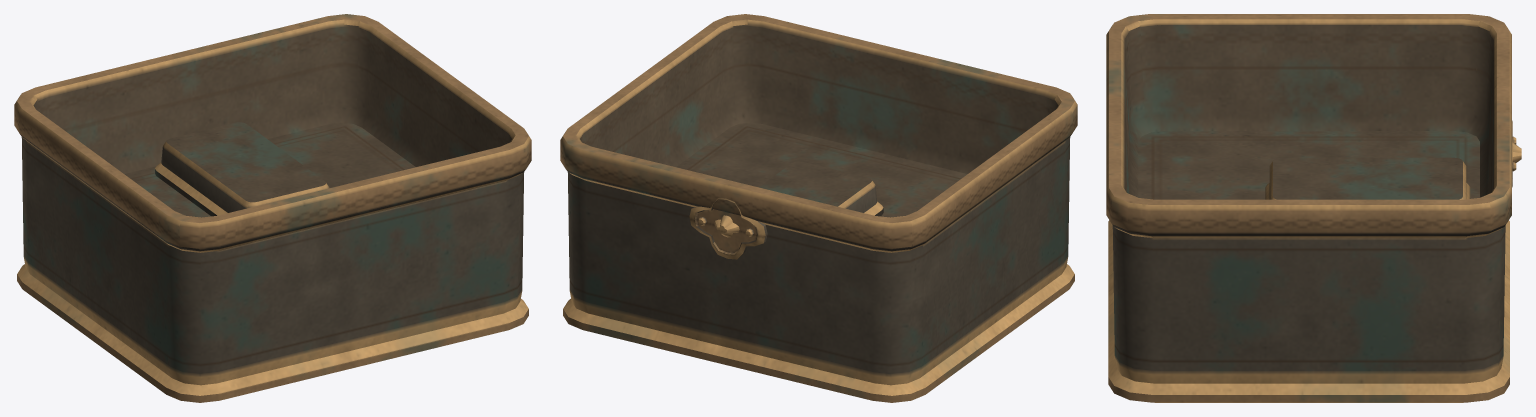
3 renders of one model, left to right at view 1: azimuth 30°, elevation 25°; view 2: azimuth 150°, elevation 25°; view 3: azimuth 270°, elevation 25°, orthographic. The views are drawn at different scales.
Visible parts, largest first — view 1: Box; view 2: Box; view 3: Box.
Part boxes in pixels (x1,y1,x2,y2): Box: (14, 14, 531, 402); Box: (560, 14, 1077, 402); Box: (1106, 14, 1521, 402).
Size of the model in its own units: 0.214 by 0.105 by 0.1945.
Materials: 1 (1 with a texture image).
